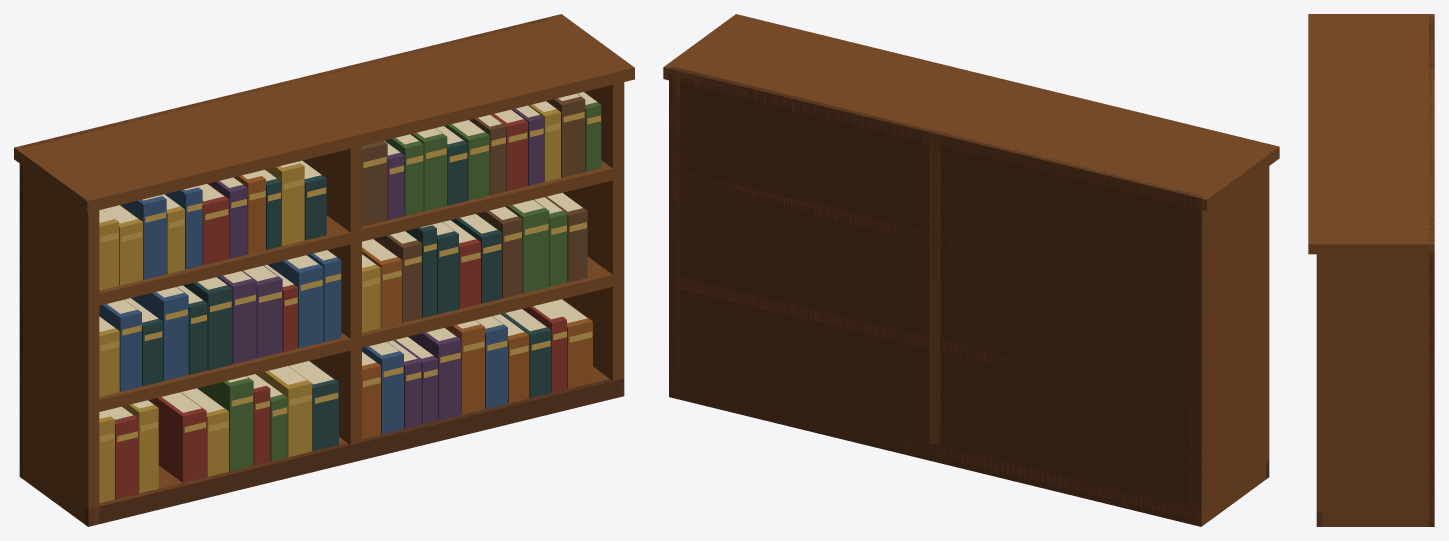
The model's file is buecherregal.glb.
The picture shows the model from 3 angles, left to right: view 1: azimuth 30°, elevation 25°; view 2: azimuth 150°, elevation 25°; view 3: azimuth 270°, elevation 25°; orthographic projection. The views are drawn at different scales.
Parts seen in each view (by area): view 1: buecherregal; view 2: buecherregal; view 3: buecherregal.
Part boxes in pixels (x1,y1,x2,y2): buecherregal: [14, 14, 634, 526]; buecherregal: [663, 14, 1279, 526]; buecherregal: [1308, 14, 1434, 526].
Size of the model in its own units: 1.94 by 1.12 by 0.45.
